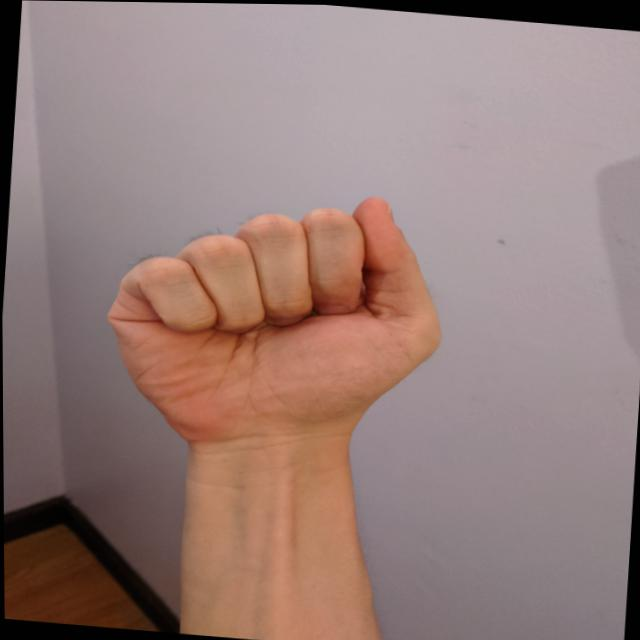A: (87, 168, 459, 461)
